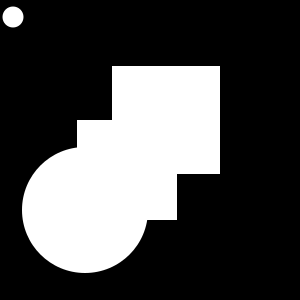circle: (112, 66, 220, 174), (77, 120, 177, 220)
rectangle: (22, 147, 148, 273), (2, 6, 24, 28)
